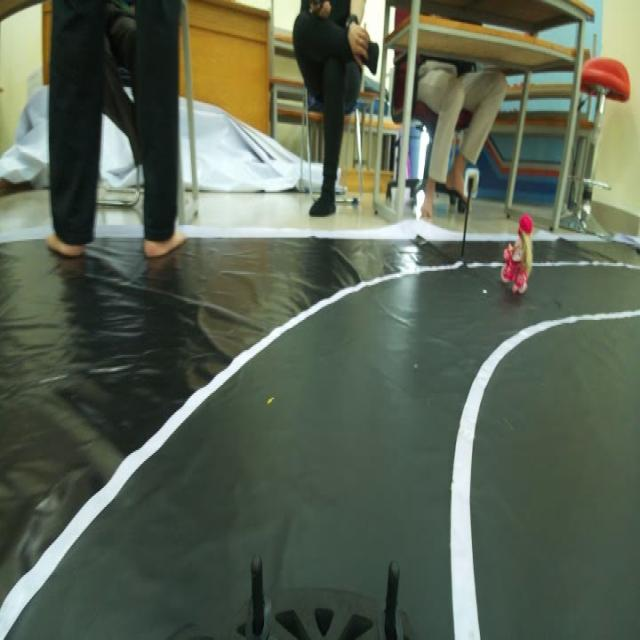pedestrian: (503, 200, 536, 300)
